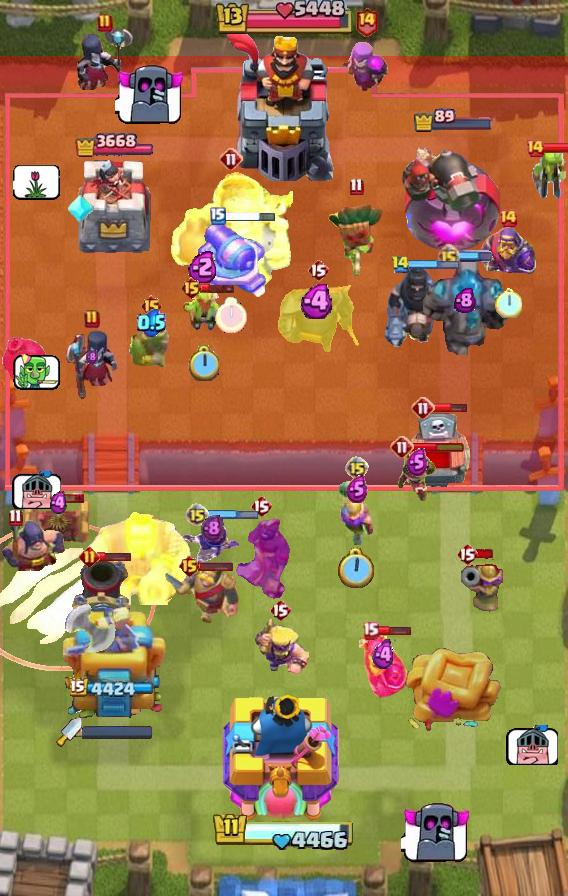axe: (59, 603, 117, 665)
bar: (223, 210, 277, 223), (412, 441, 465, 453), (207, 509, 258, 521), (408, 259, 459, 271), (198, 560, 234, 572), (49, 492, 85, 504), (200, 282, 236, 294), (457, 250, 493, 262), (97, 550, 132, 562), (433, 402, 468, 414), (377, 625, 412, 636), (542, 142, 568, 154), (476, 548, 495, 560)
bar-level: (354, 6, 379, 37), (185, 503, 209, 527), (345, 456, 369, 480), (390, 435, 414, 459), (411, 396, 435, 420), (219, 147, 243, 171), (178, 554, 201, 578), (140, 294, 163, 318), (180, 276, 203, 300), (437, 244, 460, 267), (269, 598, 291, 622), (456, 542, 478, 566), (250, 494, 272, 518), (307, 258, 329, 282), (79, 546, 100, 567), (498, 208, 518, 228), (525, 138, 545, 158), (391, 255, 410, 274), (362, 621, 379, 640), (84, 309, 100, 329), (97, 13, 113, 33), (210, 207, 226, 225), (8, 508, 23, 527), (349, 177, 364, 196)
barbarian-evolution: (251, 611, 309, 677)
bomb: (2, 335, 48, 380)
bomber-evolution: (182, 520, 242, 576)
cannoneer-tower: (402, 136, 504, 256)
clock: (338, 547, 376, 591), (215, 297, 247, 334), (188, 345, 219, 381), (495, 287, 522, 318)
dagger-duchess-tower: (60, 607, 168, 731)
dagger-duchess-tower-bar: (82, 725, 154, 739)
dart-goblin: (326, 201, 386, 277)
elixir: (300, 284, 337, 319), (188, 249, 219, 284), (137, 308, 166, 337), (372, 639, 396, 671), (201, 514, 224, 543), (346, 475, 368, 503), (406, 448, 428, 476), (454, 287, 476, 313), (50, 491, 67, 515), (86, 349, 98, 365)
emote: (401, 800, 473, 864), (115, 62, 187, 126), (505, 725, 558, 765), (12, 350, 60, 392), (11, 471, 61, 509), (13, 164, 60, 200)
executioner: (0, 517, 66, 575)
goblin: (530, 144, 568, 202), (180, 291, 226, 333)
goblin-brawler: (128, 321, 174, 373)
ice-spirit-evolution-symbol: (67, 193, 95, 225)
king-tower: (223, 31, 345, 181), (223, 689, 345, 826)
king-tower-bar: (212, 811, 356, 853), (213, 0, 355, 38)
knight: (164, 565, 240, 624)
knight-evolution: (359, 629, 410, 698), (480, 226, 536, 275)
little-prince: (395, 447, 439, 501)
mortar: (70, 555, 132, 623)
mother-witch: (338, 39, 394, 101)
musketeer: (461, 559, 503, 627), (337, 481, 377, 545)
night-witch: (73, 25, 137, 97), (64, 328, 120, 404)
queen-tower: (74, 159, 155, 256)
tesla: (23, 497, 93, 547)
tower-bar: (75, 130, 153, 161), (413, 108, 494, 133), (70, 678, 158, 700)
